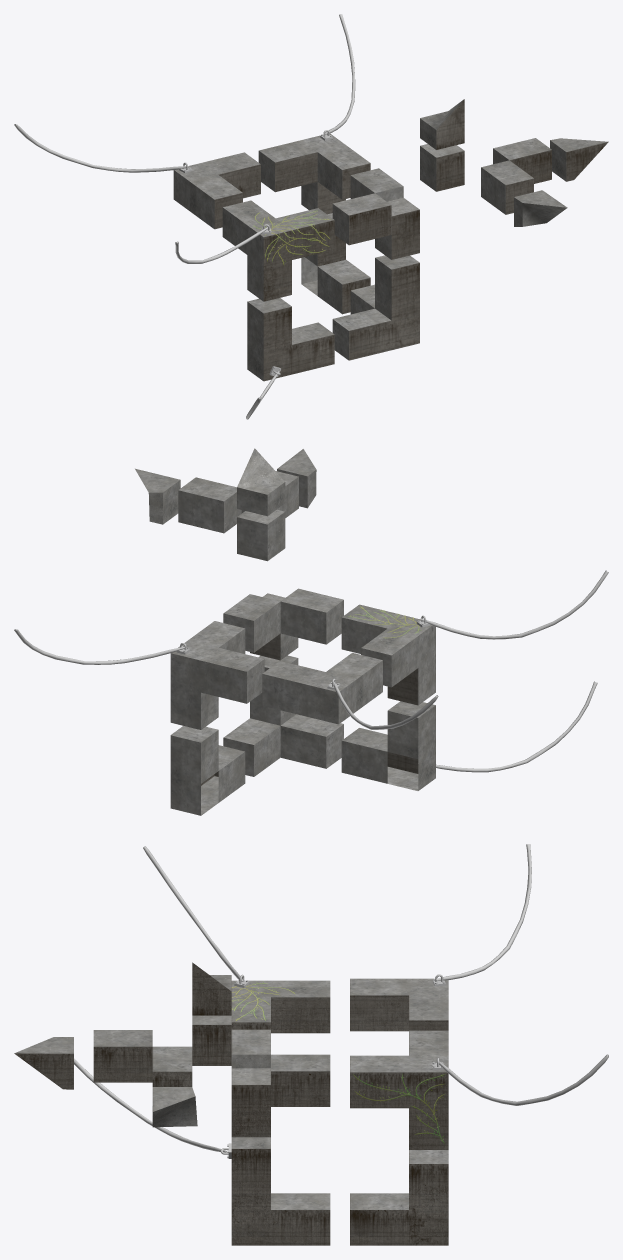
The model's file is a_impossibleShape.gltf.
3 renders of one model, top to bottom at view 1: azimuth 30°, elevation 25°; view 2: azimuth 150°, elevation 25°; view 3: azimuth 270°, elevation 25°, orthographic. The views are drawn at different scales.
Parts seen in each view (by area): view 1: Cube, Cube.005, Circle.003; view 2: Cube, Circle.001, Circle.002, Circle, Circle.003; view 3: Cube, Cube.005, Circle, Circle.003, Circle.002, Circle.001.
Part boxes in pixels (box(x1,y1,x2,y2)): Cube: box(173, 99, 608, 381); Cube.005: box(253, 210, 330, 265); Circle.003: box(14, 124, 188, 172); Cube: box(135, 448, 435, 815); Circle.001: box(420, 570, 608, 639); Circle.002: box(436, 681, 597, 772); Circle: box(14, 629, 184, 664); Circle.003: box(333, 682, 438, 729); Cube: box(14, 962, 448, 1245); Cube.005: box(231, 982, 445, 1143); Circle: box(439, 1054, 608, 1105); Circle.003: box(435, 844, 531, 980); Circle.002: box(74, 1058, 226, 1152); Circle.001: box(143, 846, 243, 981).
Bounding box in the file's own units: 3084 × 1699 × 3018.
